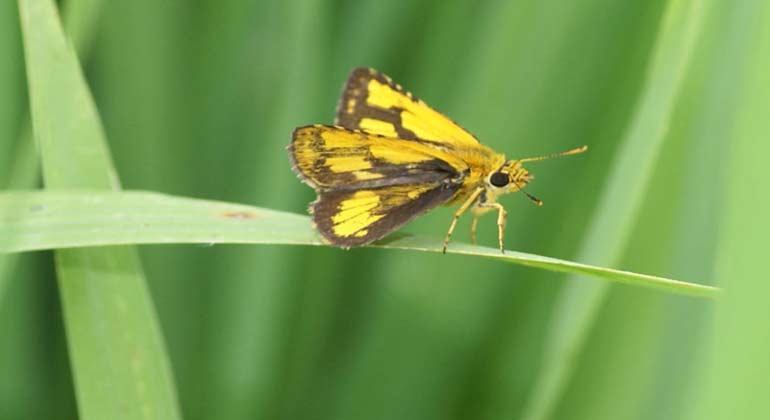Rice_skipper: (289, 63, 541, 245)
